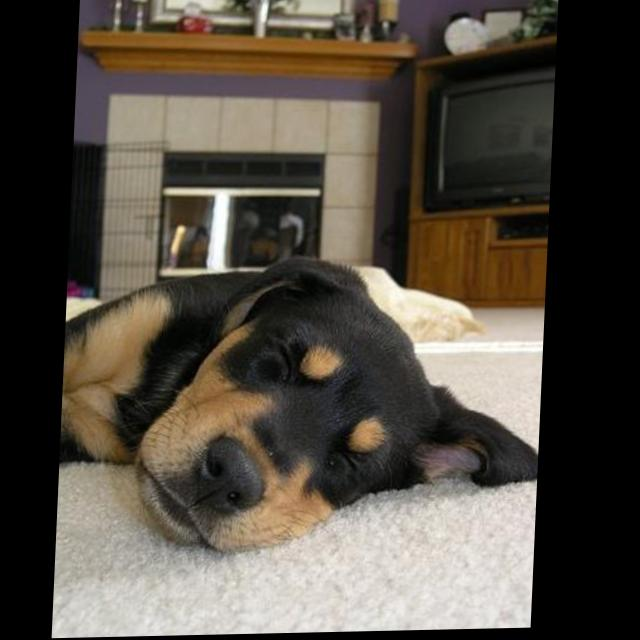rottweiler: (62, 252, 551, 559)
